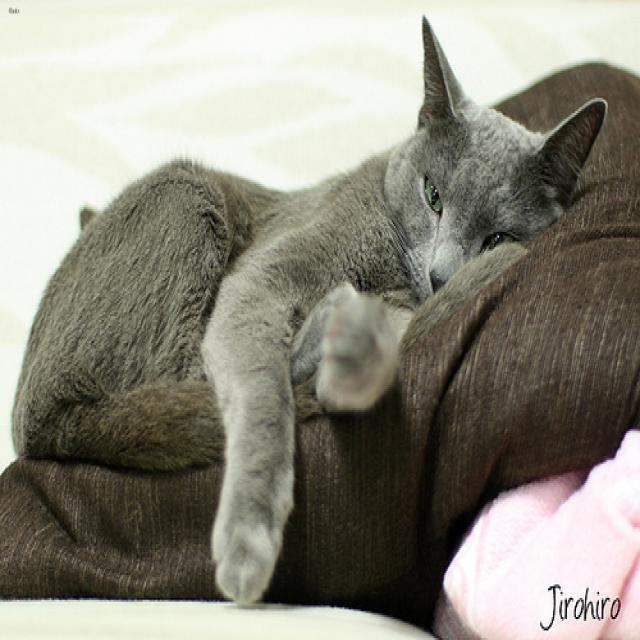Russian_Blue: (384, 12, 609, 313)
